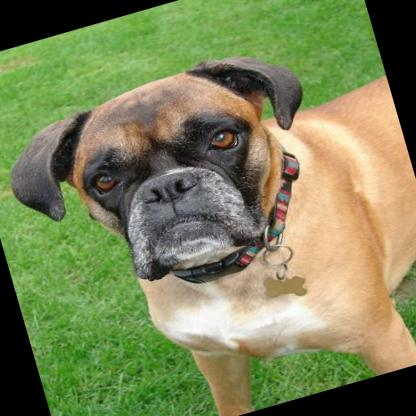boxer: (0, 11, 416, 416)
